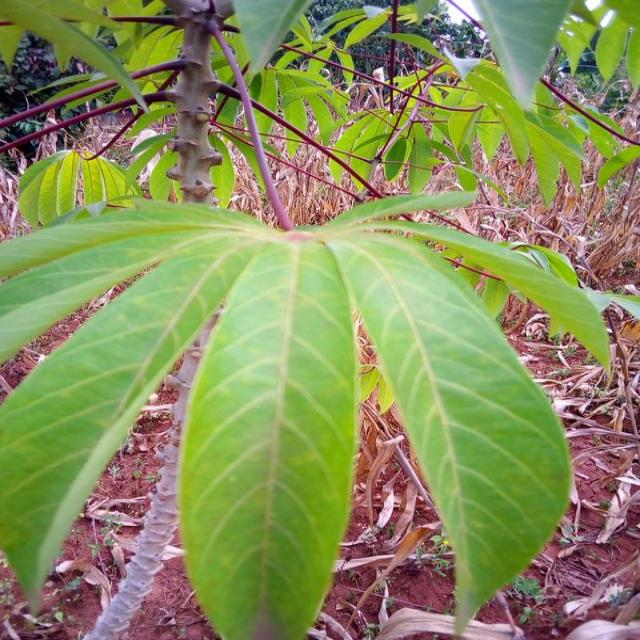cassava leaf: (0, 197, 578, 637), (326, 228, 574, 635), (176, 235, 358, 638)
